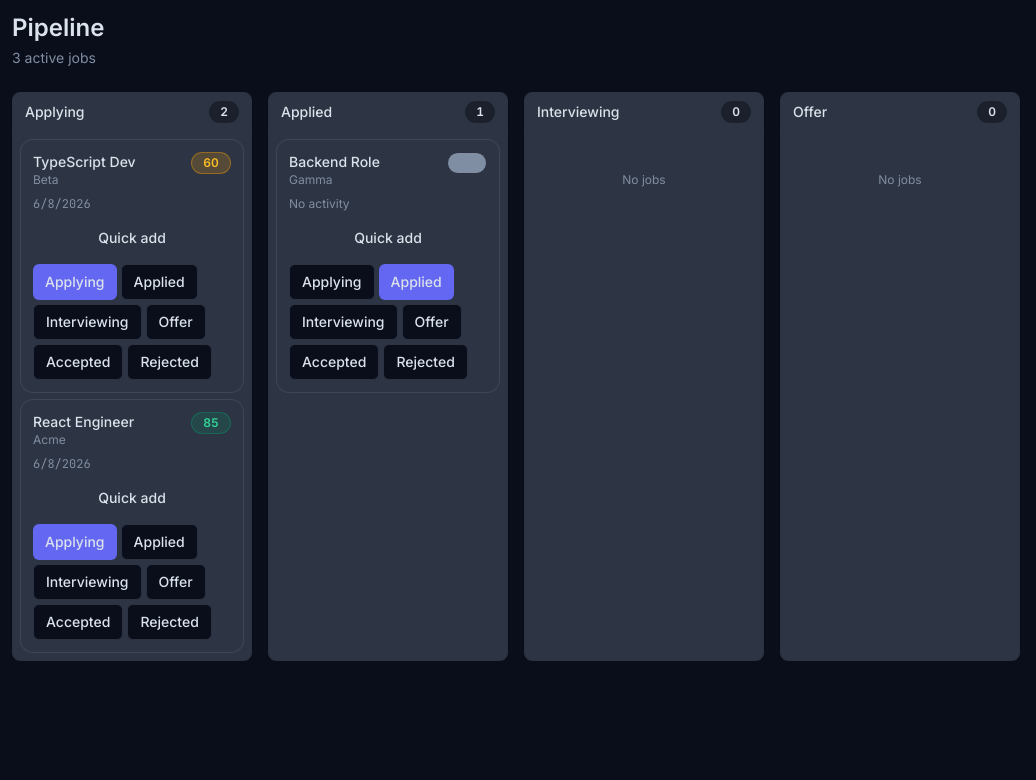
Test case: PipelineScreen › shows validation for empty quick-add note
Expected: the text "React Engineer" is shown, [33,413,134,430]
Click the button "Quick add" below "Acme".
click(132, 498)  # box [33,480,231,516]
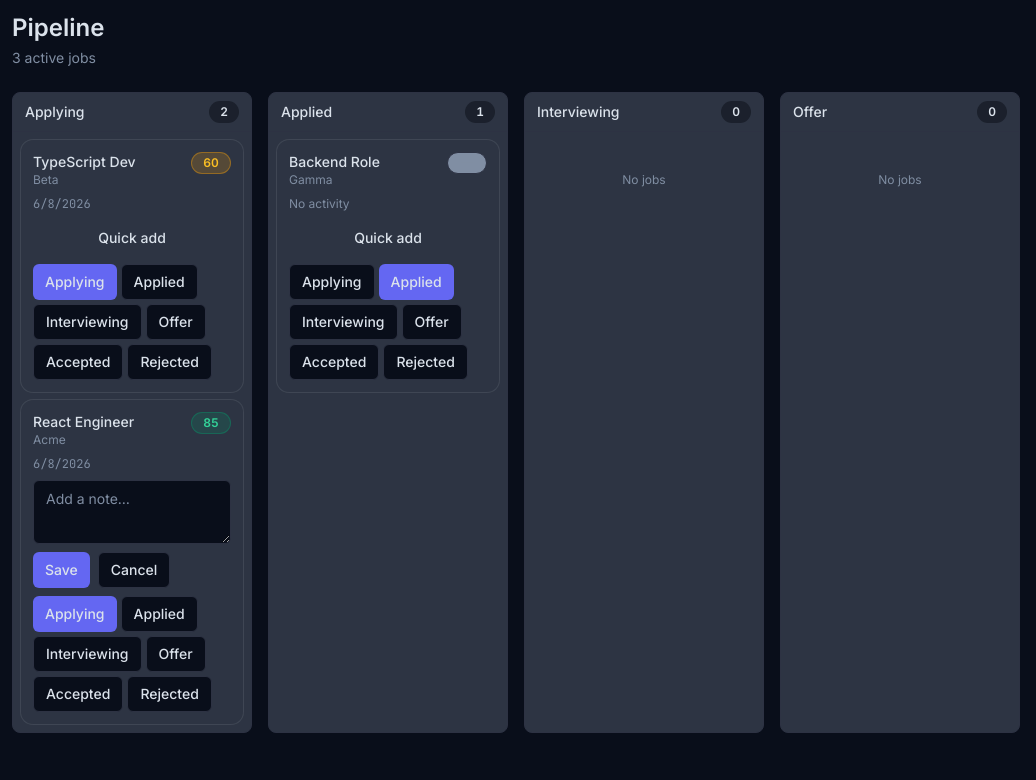
Click the button "Save".
click(61, 570)  # box [33,552,90,588]
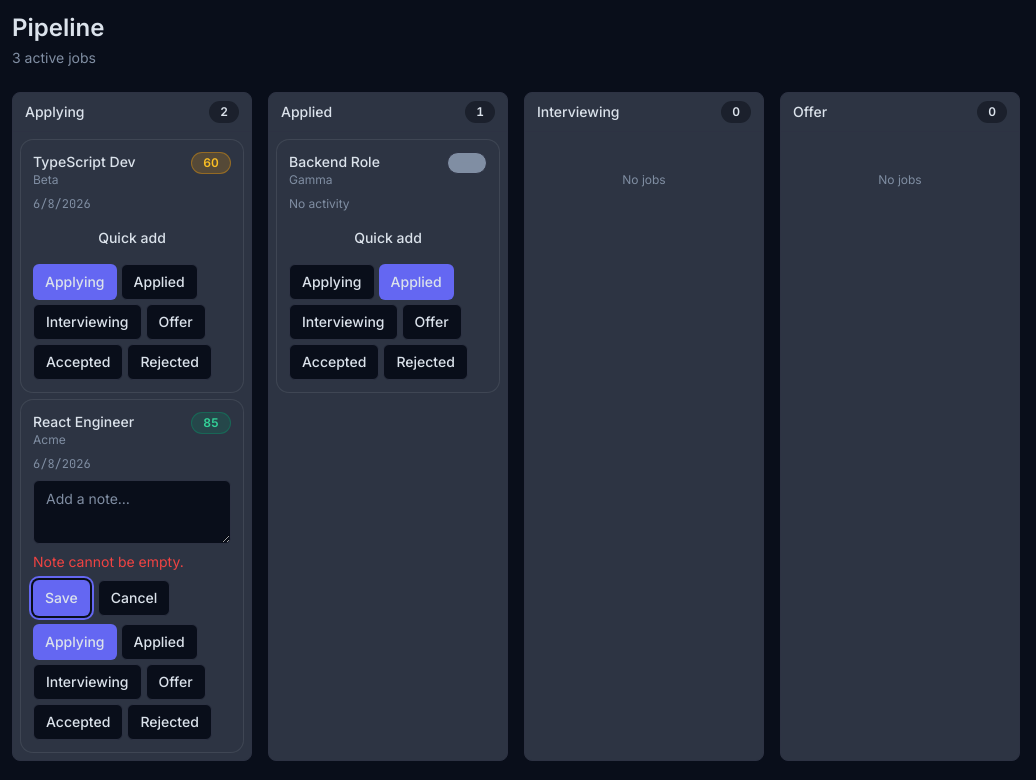
Now the text "Note cannot be empty." is shown, box [33,553,184,570]
